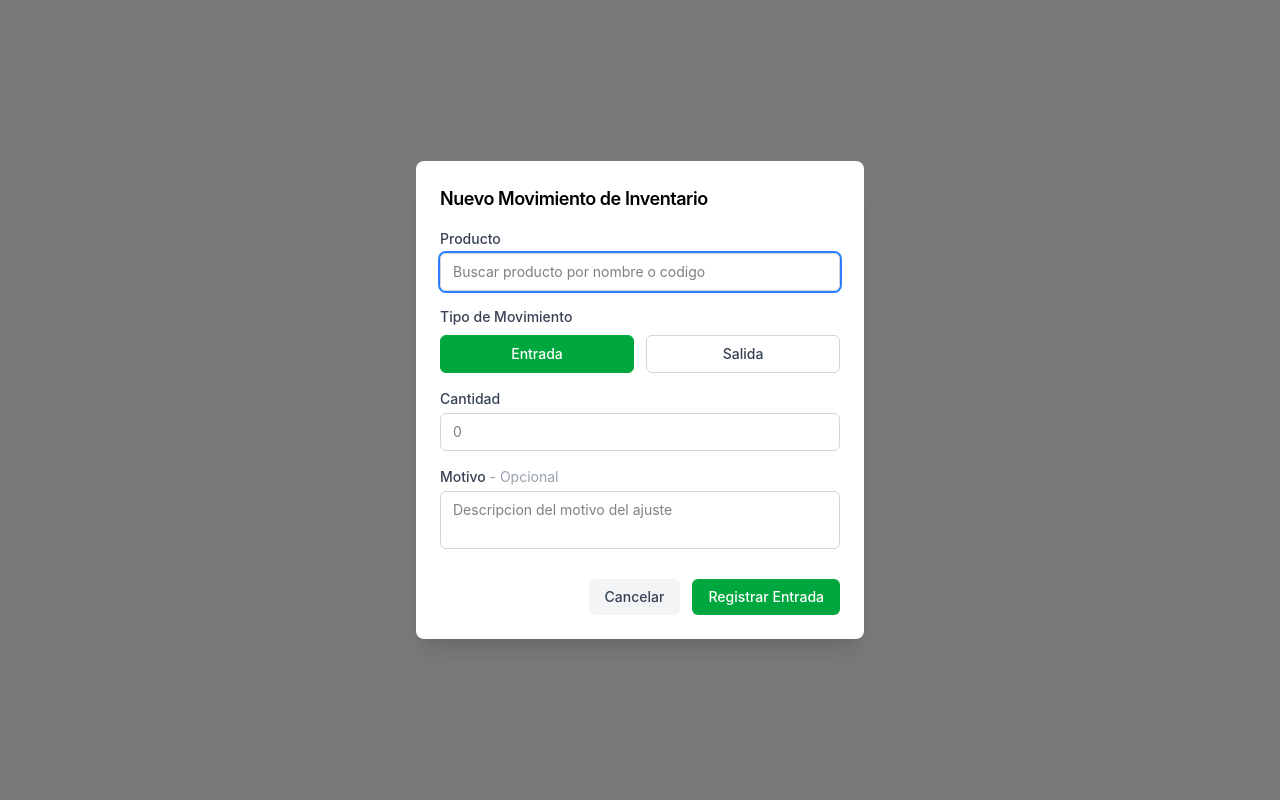
Test: MovimientoForm — deposito sugerido en ingreso manual (Slice 1c, KDS/Deposito Sugerido en Ingreso Manual) › al seleccionar un producto CON deposito default en una ENTRADA, el selector de deposito queda pre-seleccionado a ese deposito
This screenshot has width=1280, height=800.
In the field labelled "Producto": [640, 272] box 440,253 -> 840,291, type "Producto Con"
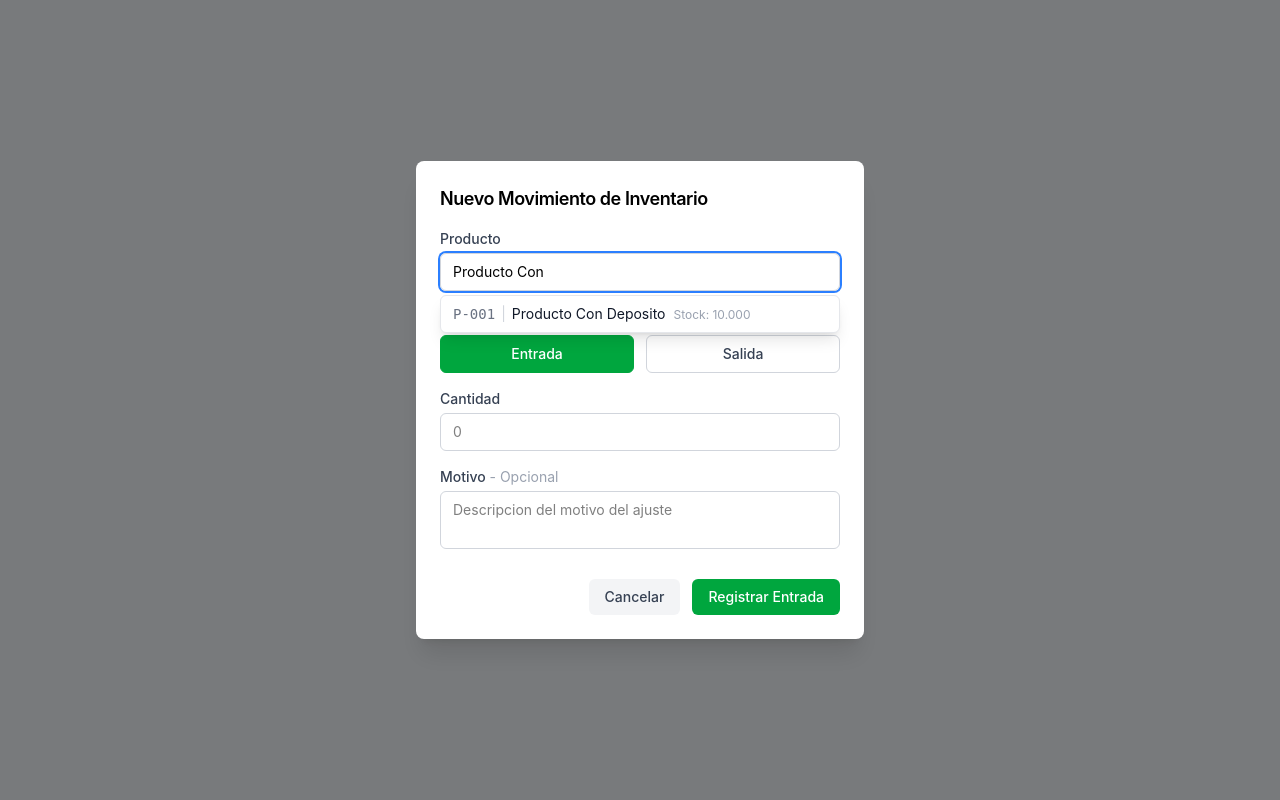
Click the text "Producto Con Deposito": [589, 314] box 512,305 -> 666,322
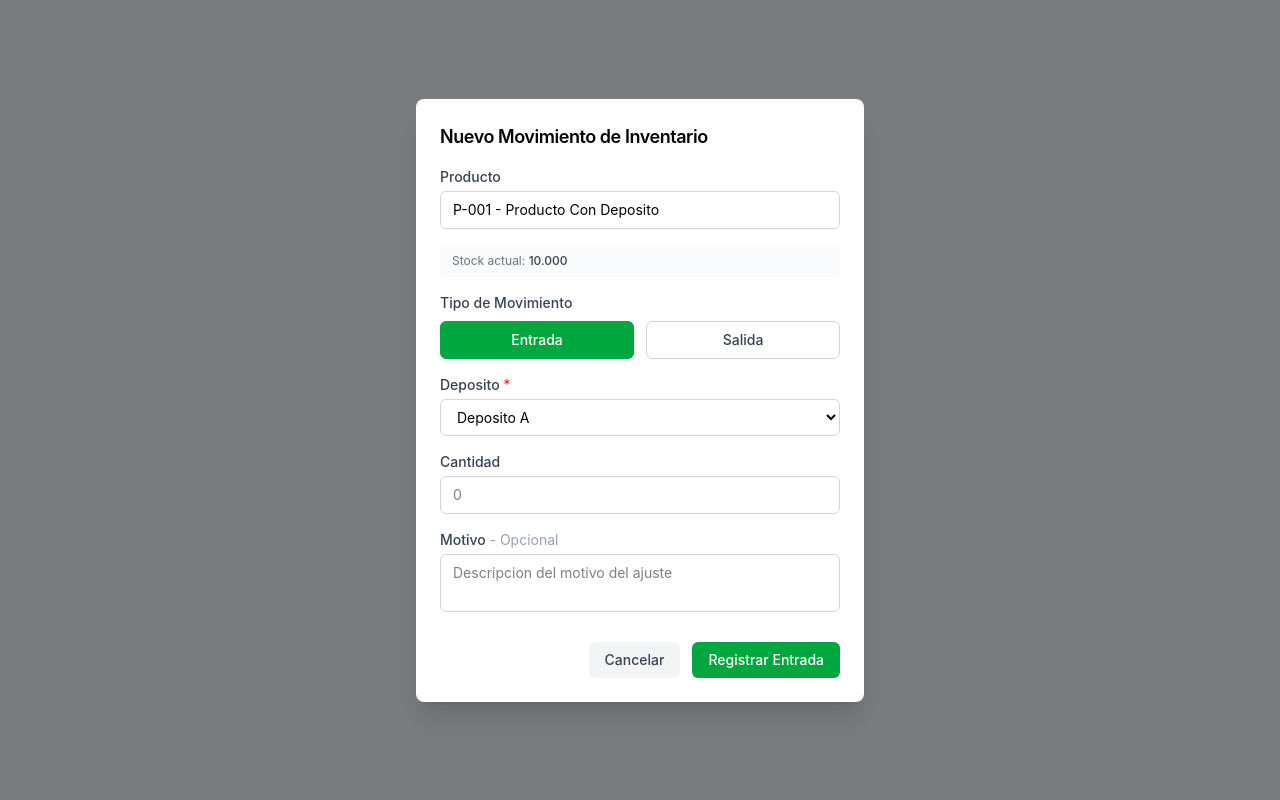
Result: the dropdown labelled "Deposito *" shows "Deposito A" at 440,398 -> 840,436
